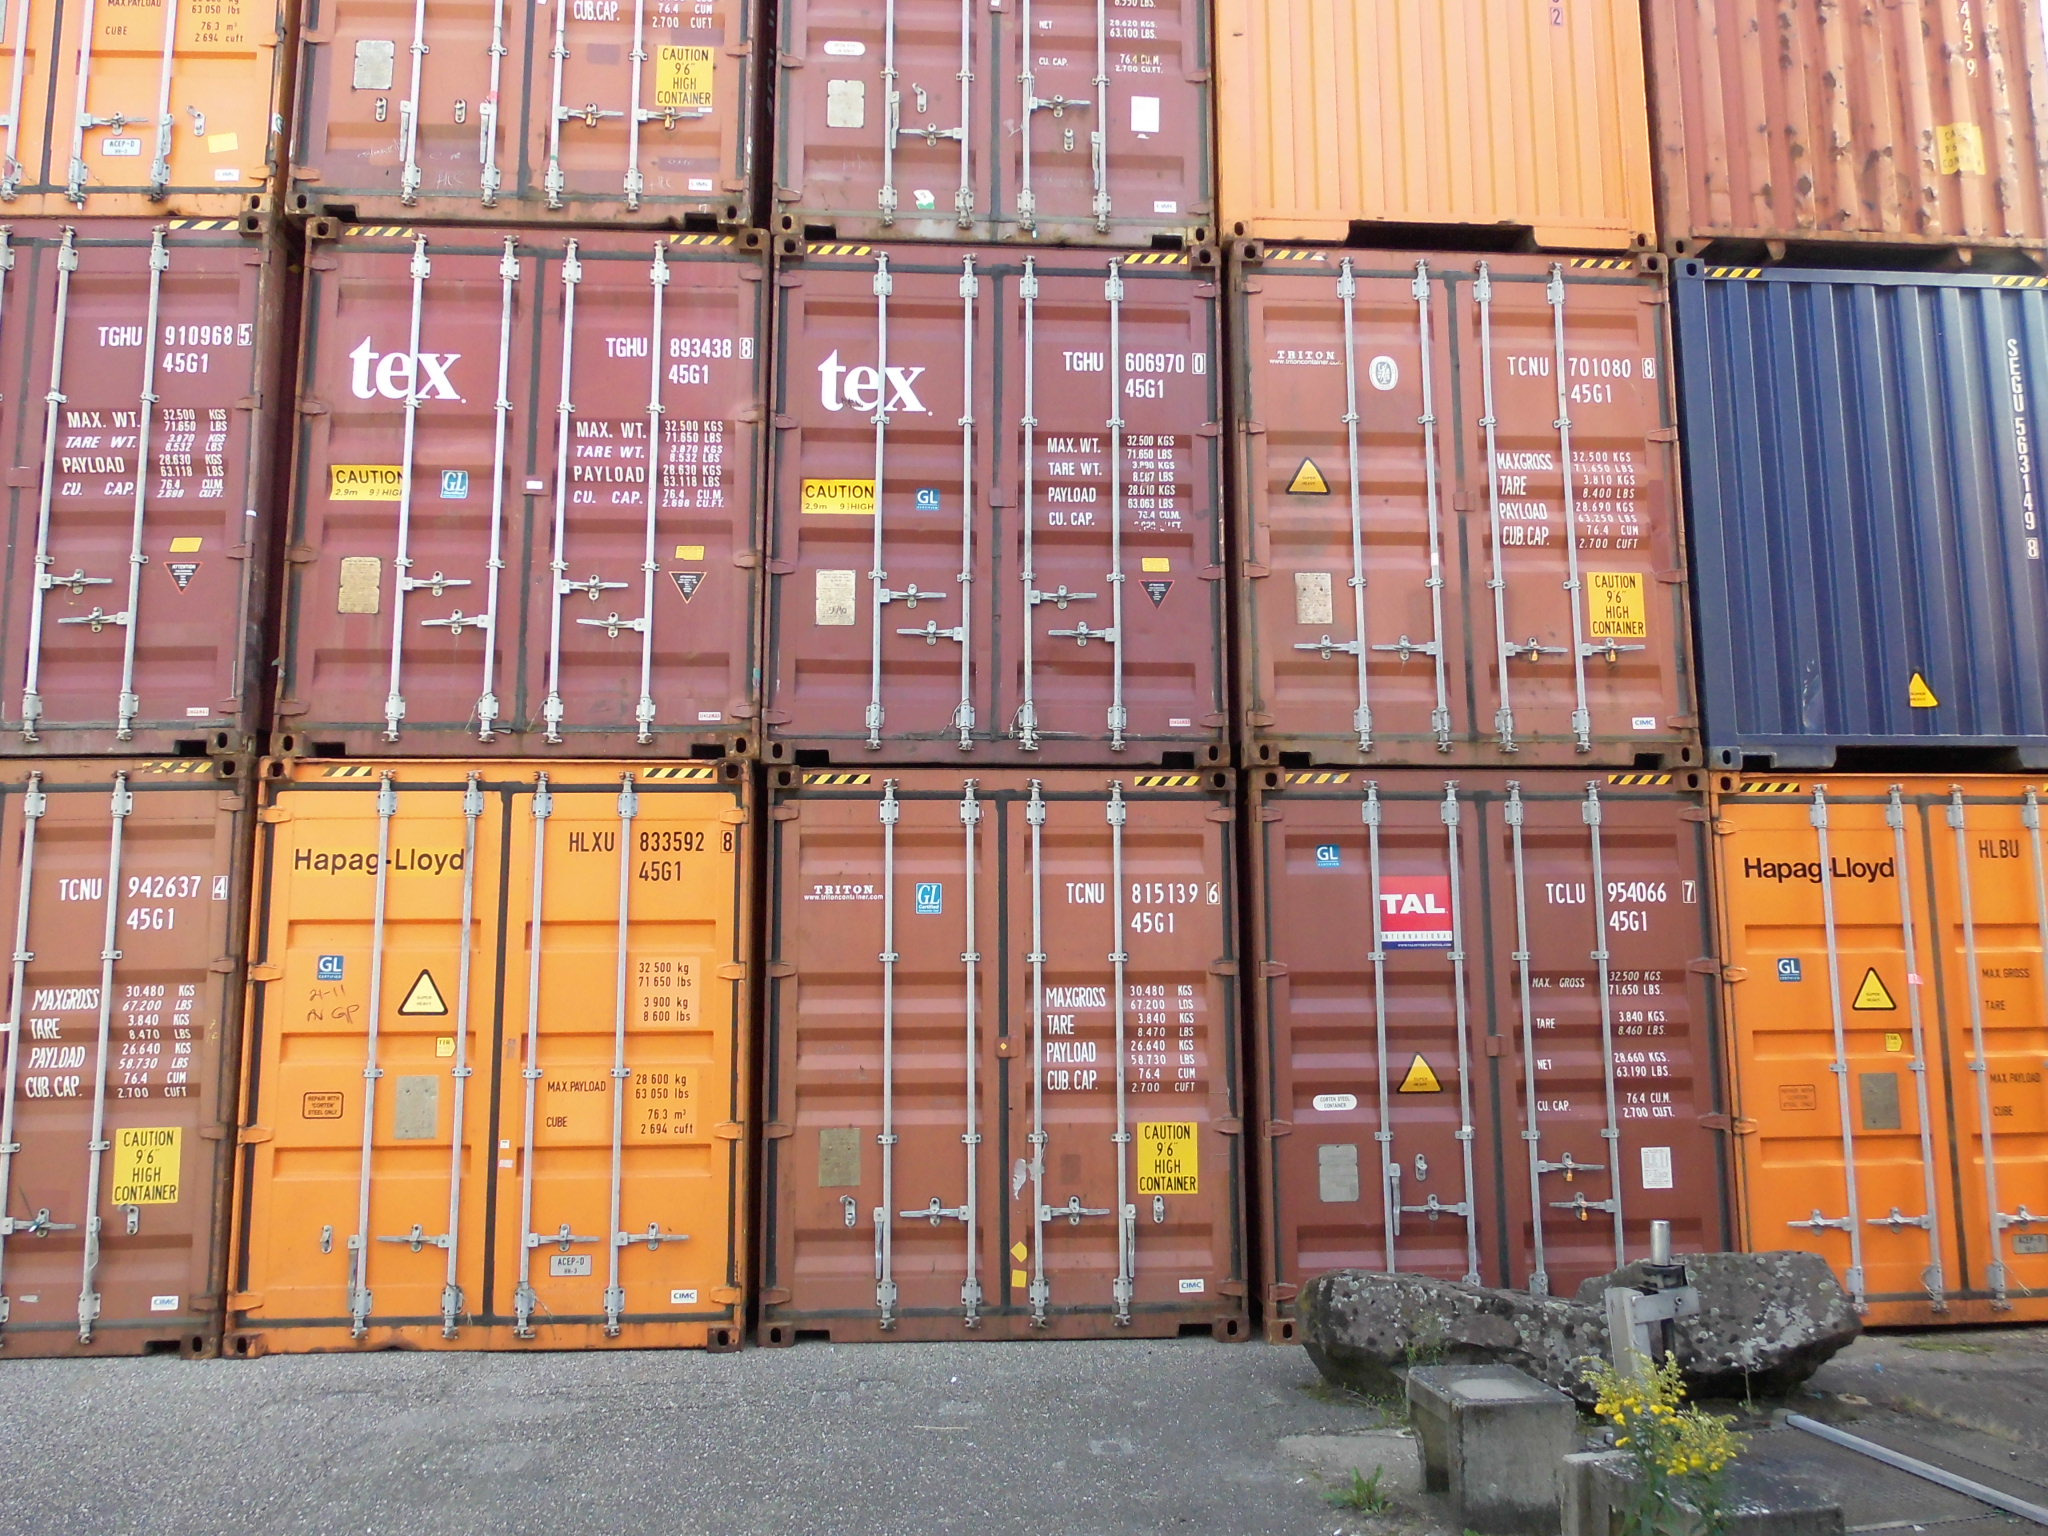container_door: (248, 786, 739, 1342), (772, 779, 1253, 1334), (776, 242, 1238, 760), (1284, 783, 1724, 1323), (1247, 248, 1690, 774), (316, 227, 739, 745), (1742, 792, 2038, 1312), (10, 227, 253, 760), (16, 805, 239, 1346), (319, 2, 753, 242), (793, 2, 1205, 231)
container_no_door: (1250, 2, 1664, 245)
